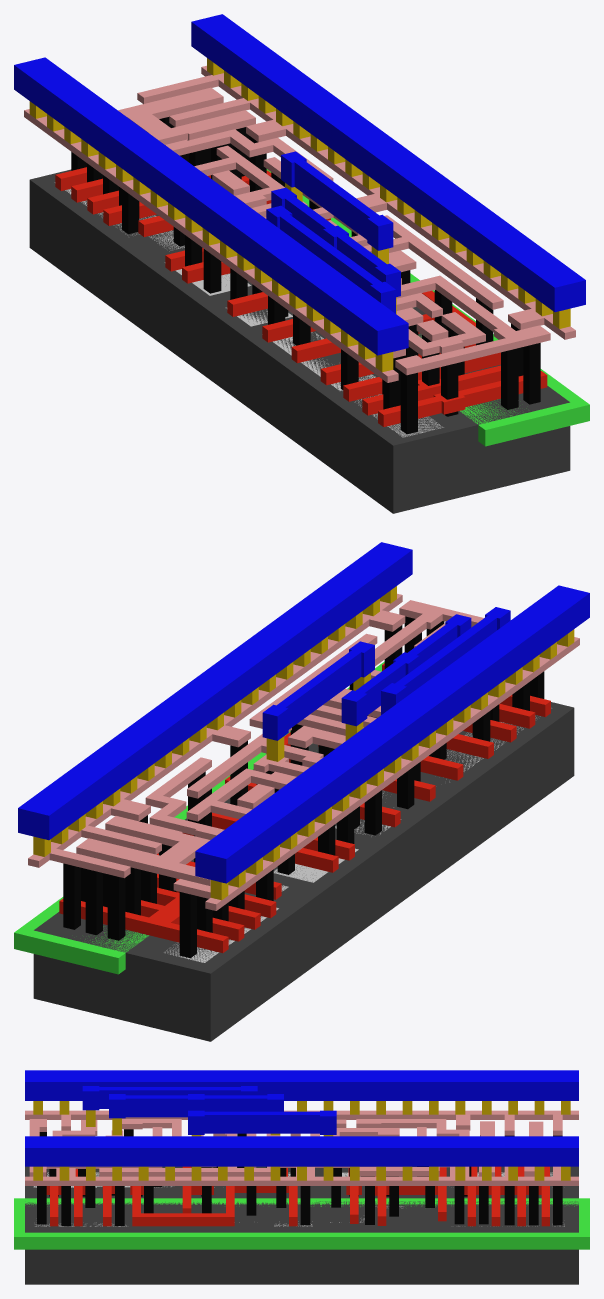
Rendered from sky130_fd_sc_hd__xnor3_4.obj.
3 renders of one model, top to bottom at view 1: azimuth 30°, elevation 25°; view 2: azimuth 150°, elevation 25°; view 3: azimuth 270°, elevation 25°, orthographic. The views are drawn at different scales.
Parts seen in each view (by area): view 1: metal1, subs, li, licon, poly, mcon, nwell, diff; view 2: metal1, subs, li, licon, poly, mcon, nwell, diff; view 3: metal1, subs, li, nwell, poly, licon, mcon.
Boxes of the visible parts, x1,y1,x2,y2 form: metal1: (14,14,585,355); subs: (29,169,570,513); li: (24,65,575,382); licon: (71,117,540,434); poly: (55,167,547,426); mcon: (29,58,570,372); nwell: (266,169,589,446); diff: (54,182,443,437); metal1: (18,542,589,883); subs: (33,702,574,1041); li: (28,593,579,910); licon: (63,616,544,958); poly: (59,663,550,953); mcon: (33,586,574,900); nwell: (14,661,384,974); diff: (164,708,551,962); metal1: (25,1070,578,1166); subs: (25,1166,578,1284); li: (25,1110,578,1185); nwell: (14,1198,589,1249); poly: (46,1166,549,1226); licon: (37,1129,562,1225); mcon: (33,1101,570,1180).
Size of the model in its own units: 3.2 by 2.74 by 10.04.
